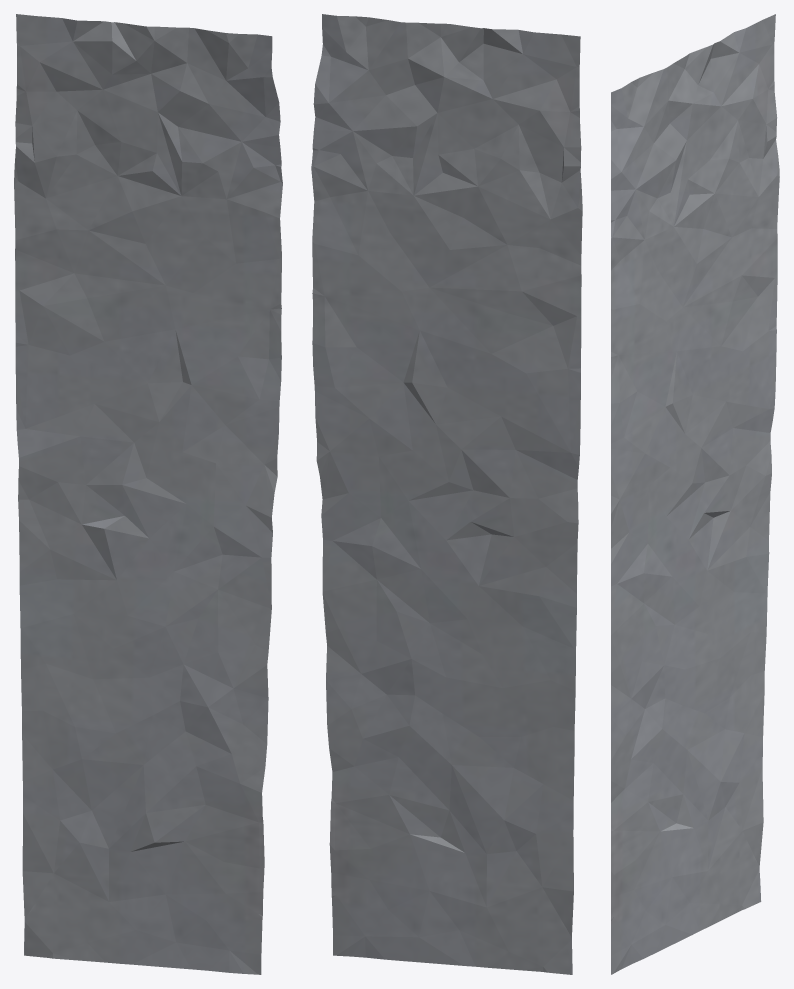
3 views of the same model, side by side, from view 1: azimuth 30°, elevation 25°; view 2: azimuth 210°, elevation 25°; view 3: azimuth 270°, elevation 25° (orthographic). The views are drawn at different scales.
Size of the model in its own units: 0.1685 by 0.8374 by 0.1442.
1 material, 1 textured.
